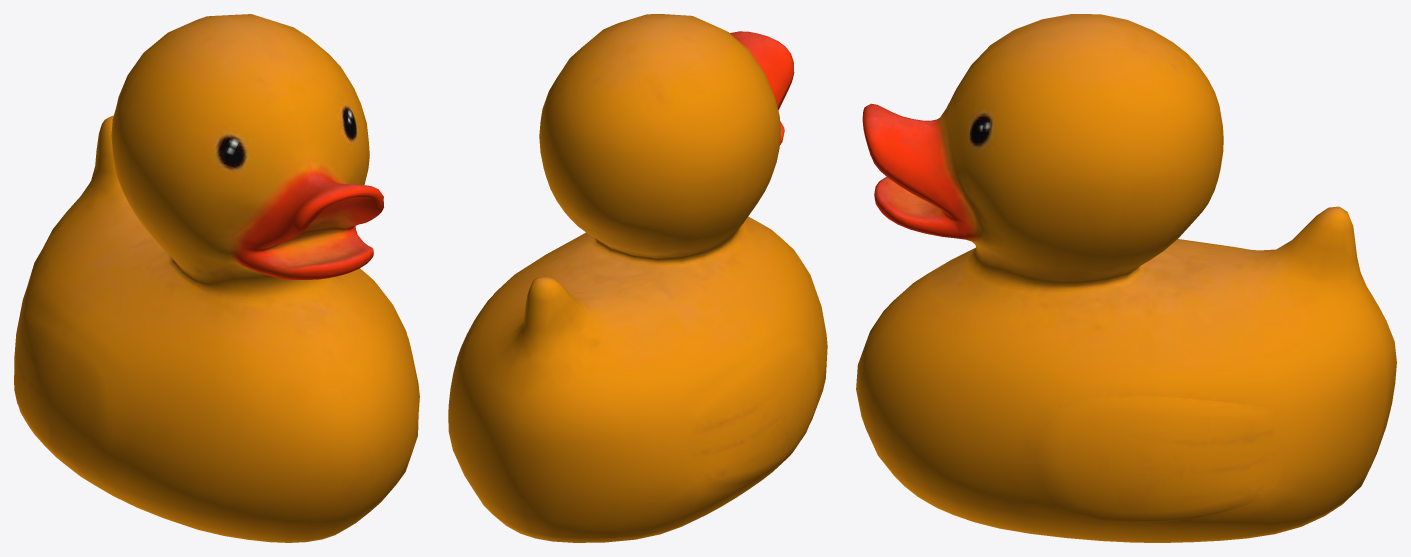
Rendered from duck.glb.
3 views of the same model, side by side, from view 1: azimuth 30°, elevation 25°; view 2: azimuth 150°, elevation 25°; view 3: azimuth 270°, elevation 25° (orthographic). The views are drawn at different scales.
Parts seen in each view (by area): view 1: rubber_duck_toy; view 2: rubber_duck_toy; view 3: rubber_duck_toy.
Boxes of the visible parts, x1=… form: rubber_duck_toy: x1=14, y1=14, x2=419, y2=542; rubber_duck_toy: x1=448, y1=14, x2=827, y2=542; rubber_duck_toy: x1=856, y1=14, x2=1396, y2=542.
Bounding box in the file's own units: 0.2135 × 0.2855 × 0.3.
Materials: 1 (1 with a texture image).
